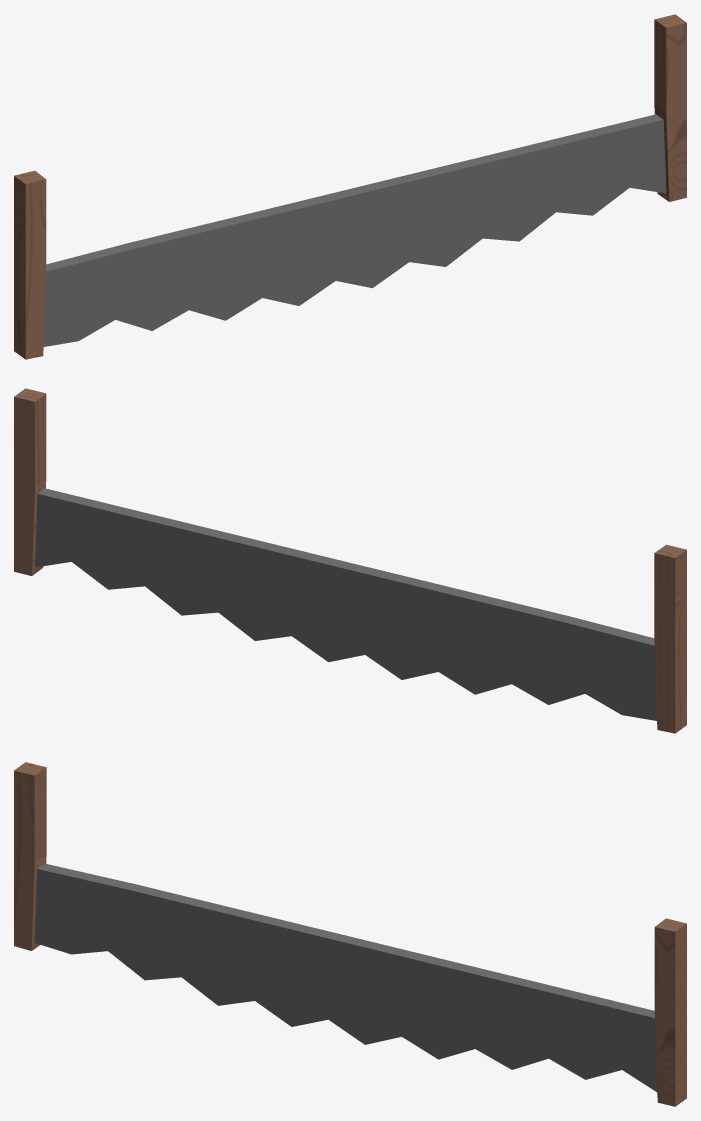
Rendered from Saw 2.fbx.
3 renders of one model, top to bottom at view 1: azimuth 30°, elevation 25°; view 2: azimuth 150°, elevation 25°; view 3: azimuth 330°, elevation 25°, orthographic.
Visible parts, largest first — view 1: Saw_2; view 2: Saw_2; view 3: Saw_2.
Part boxes in pixels (x1,y1,x2,y2): Saw_2: (14,14,686,359); Saw_2: (14,388,686,733); Saw_2: (14,762,686,1106).
Size of the model in its own units: 486 by 134 by 14.81.
